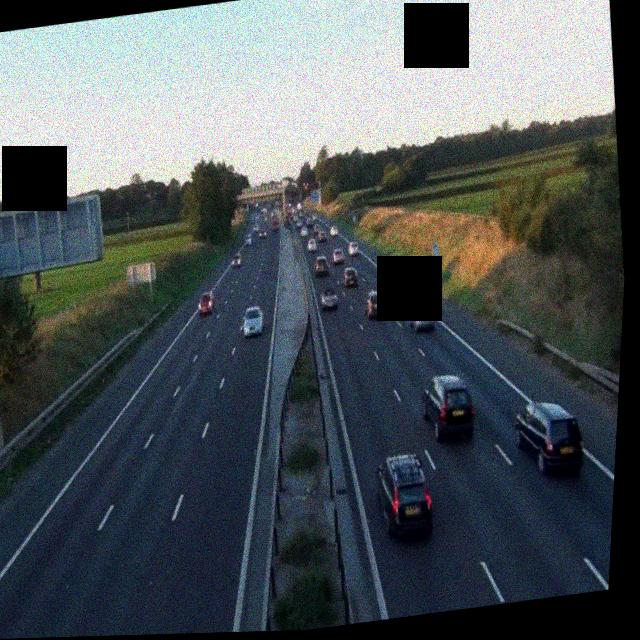car: (511, 396, 588, 479), (370, 451, 439, 542), (416, 371, 478, 443), (408, 297, 437, 332), (239, 304, 265, 337), (362, 288, 387, 318), (197, 290, 216, 316), (319, 288, 339, 312), (341, 265, 359, 289), (313, 256, 330, 276), (329, 248, 344, 265), (306, 236, 318, 253), (347, 241, 359, 257), (230, 253, 242, 268), (328, 224, 338, 239), (299, 224, 308, 237)
truck: (378, 255, 406, 298)
